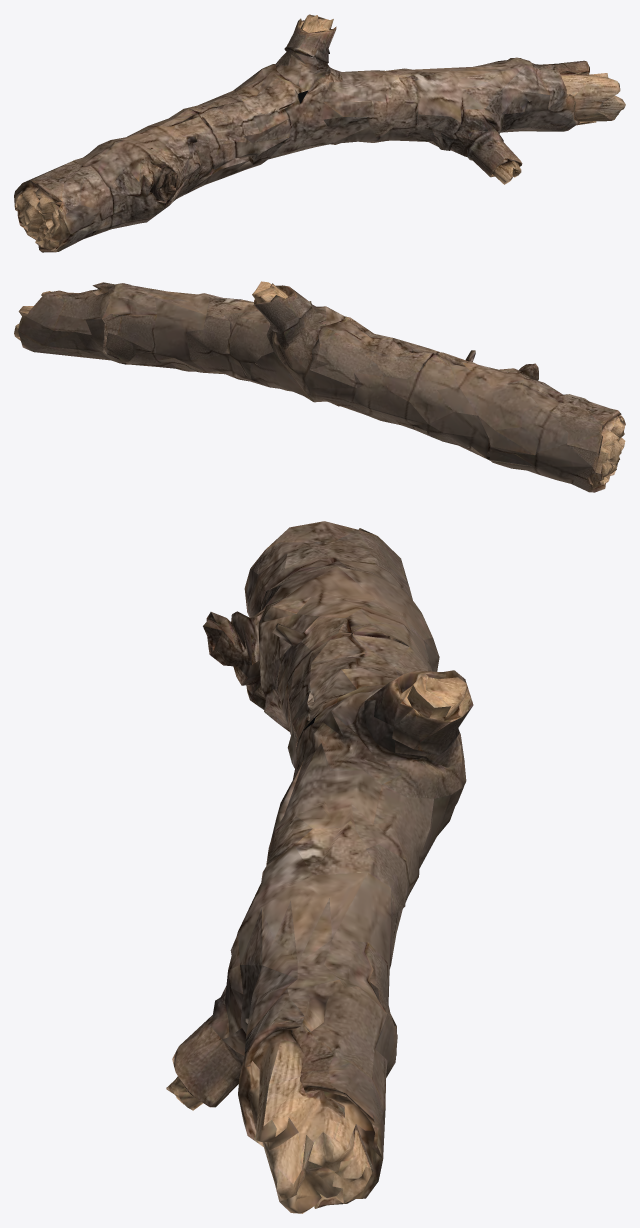
Rendered from twig-model.glb.
3 views of the same model, one above another, from view 1: azimuth 30°, elevation 25°; view 2: azimuth 150°, elevation 25°; view 3: azimuth 270°, elevation 25° (orthographic). The views are drawn at different scales.
Visible parts, largest first — view 1: output_unwrapped; view 2: output_unwrapped; view 3: output_unwrapped.
Boxes of the visible parts, x1,y1,x2,y2 form: output_unwrapped: (14, 14, 625, 252); output_unwrapped: (14, 281, 625, 492); output_unwrapped: (166, 521, 473, 1213).
Bounding box in the file's own units: 1.9 × 0.4673 × 0.4307.
1 material, 1 textured.
